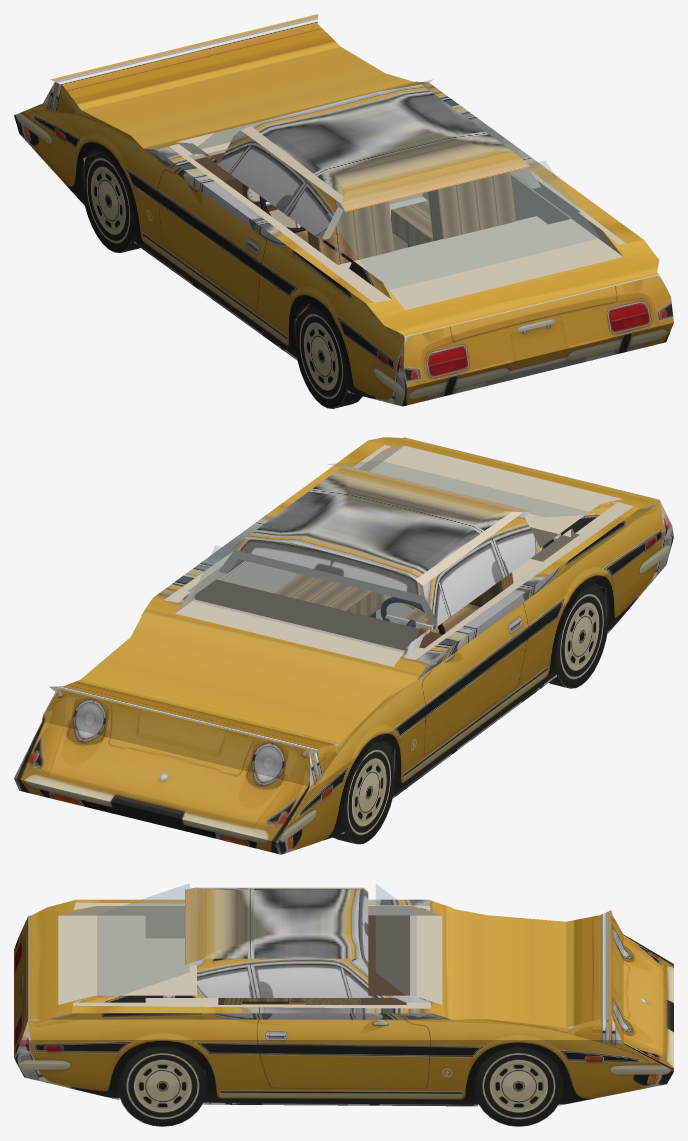
The model's file is sports_car.glb.
3 renders of one model, top to bottom at view 1: azimuth 30°, elevation 25°; view 2: azimuth 150°, elevation 25°; view 3: azimuth 270°, elevation 25°, orthographic. The views are drawn at different scales.
Visible parts, largest first — view 1: sports_car, sports_car_cabin, wheel_BL, wheel_FL; view 2: sports_car, sports_car_cabin, wheel_BL, wheel_FL; view 3: sports_car, sports_car_cabin, wheel_BR, wheel_FR.
Boxes of the visible parts, <box> form: sports_car: <box>14,14,673,406</box>; sports_car_cabin: <box>195,79,599,289</box>; wheel_BL: <box>295,304,362,408</box>; wheel_FL: <box>82,151,140,252</box>; sports_car: <box>14,437,673,854</box>; sports_car_cabin: <box>191,461,588,652</box>; wheel_BL: <box>549,584,608,688</box>; wheel_FL: <box>333,742,395,844</box>; sports_car: <box>14,887,673,1106</box>; sports_car_cabin: <box>97,884,416,1004</box>; wheel_BR: <box>118,1047,206,1126</box>; wheel_FR: <box>474,1045,563,1126</box>.
Bounding box in the file's own units: 1.81 × 1.17 × 4.5.
11 materials, 4 textured.
